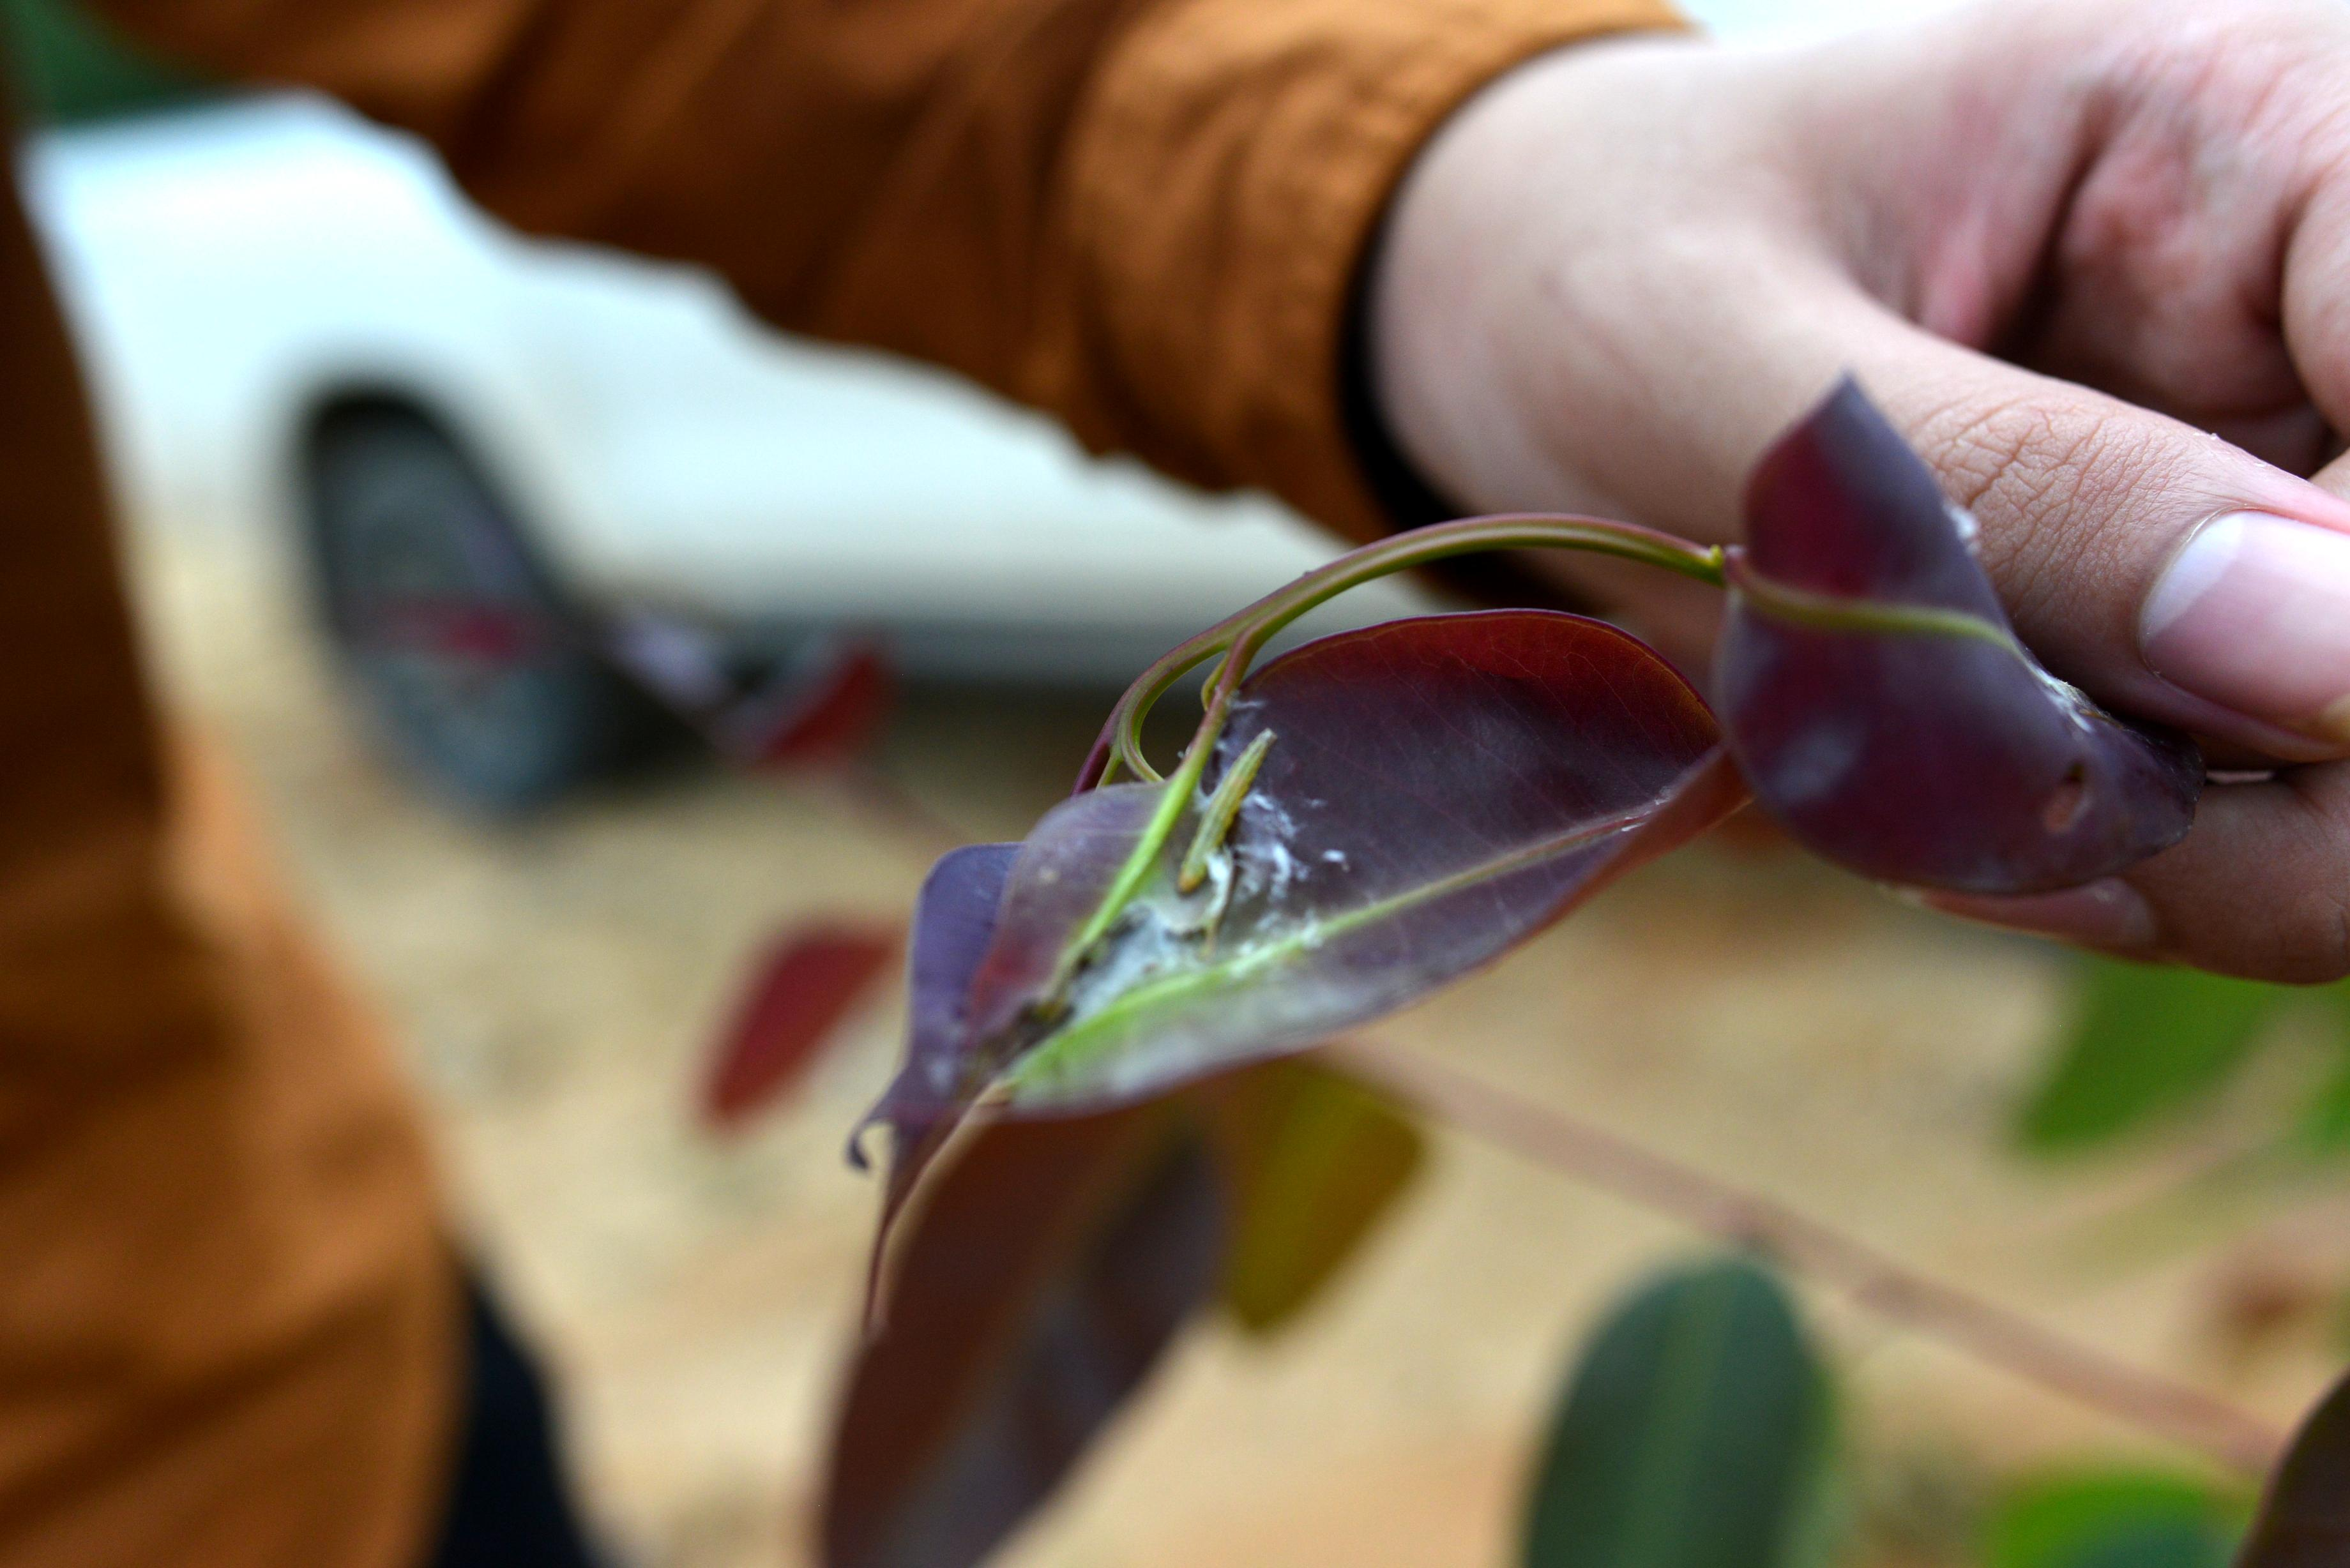Leaf Roller - Insect: (1172, 723, 1274, 901)
Leaf Roller - Leaf: (800, 614, 1710, 1344), (1717, 422, 2198, 885), (870, 768, 1223, 1197)
